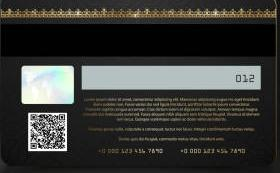payment_card: (0, 1, 280, 173)
